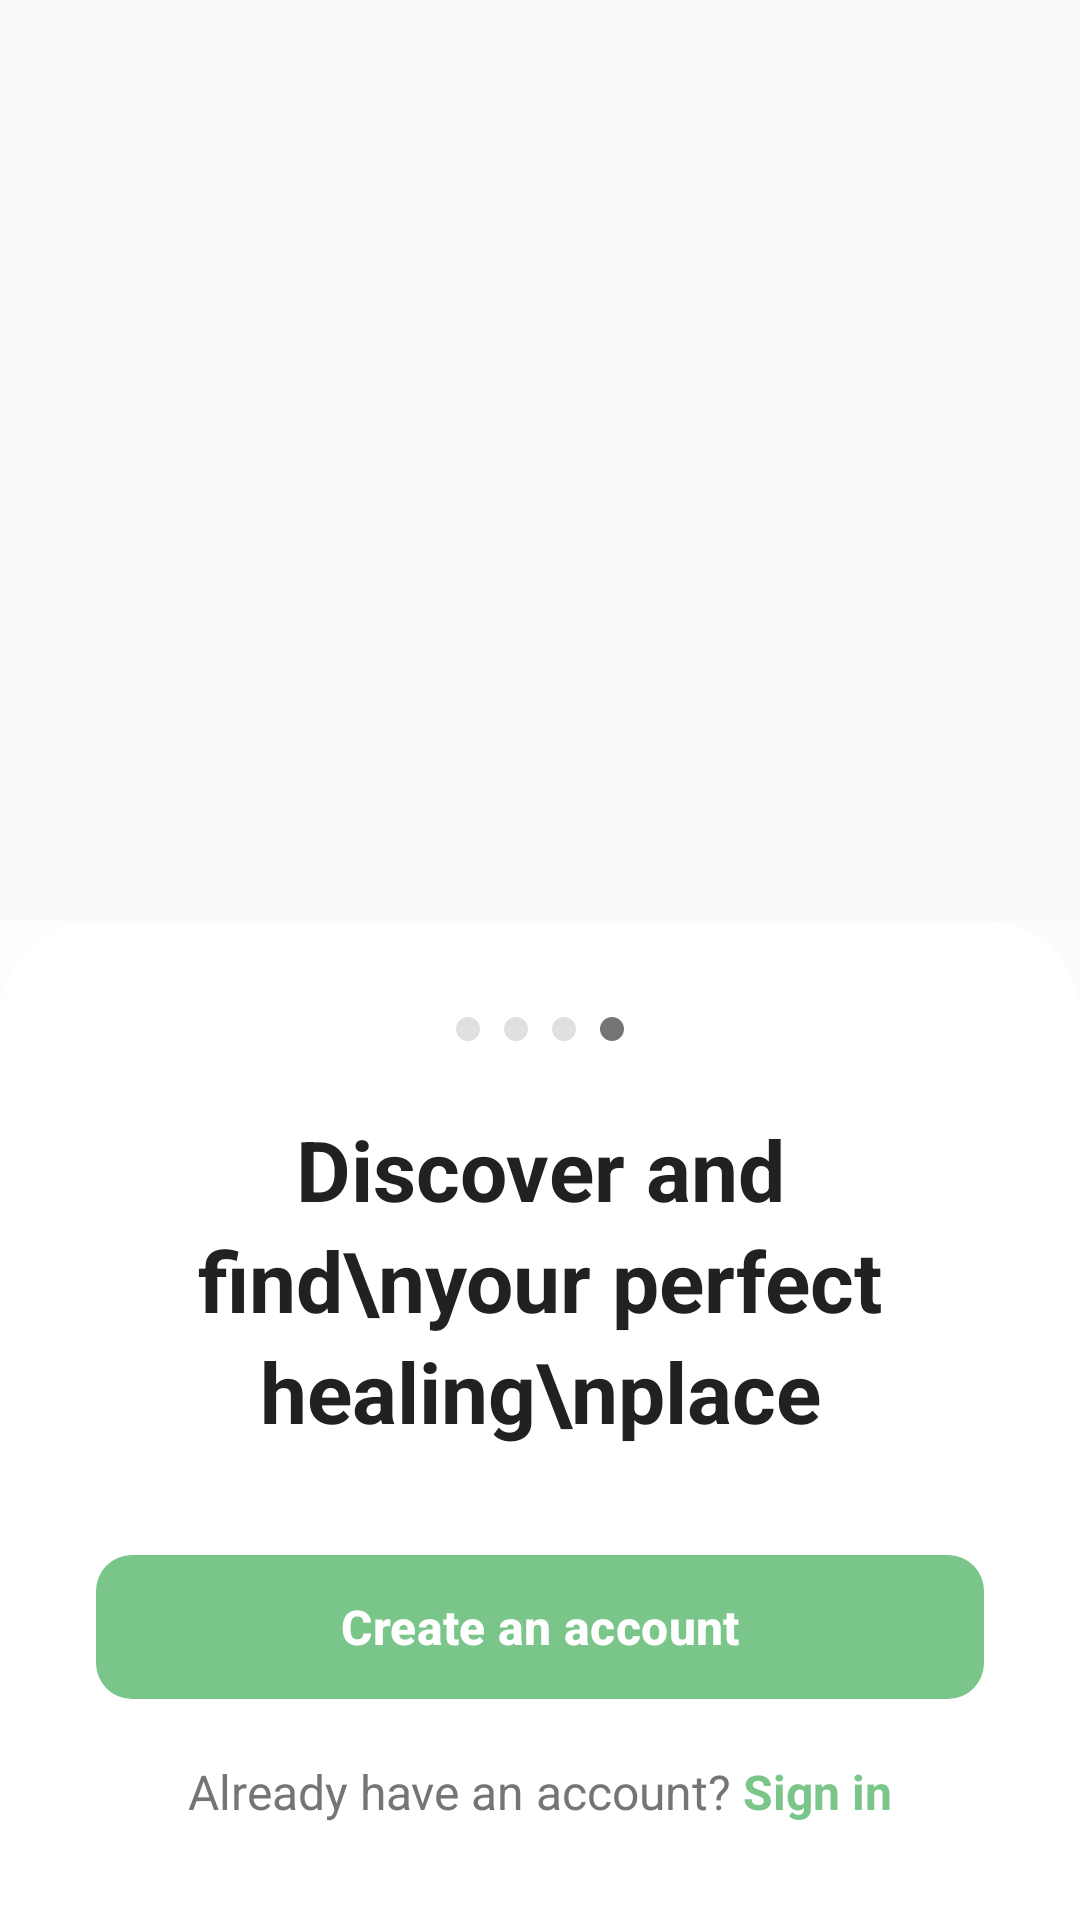

Icon click points for this 1080*1920 phone screenshot, format (x,y):
pagination dot: (612,1029)
